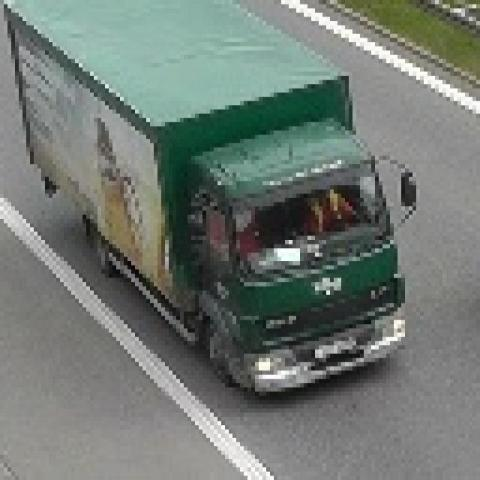truck: (8, 0, 424, 400)
